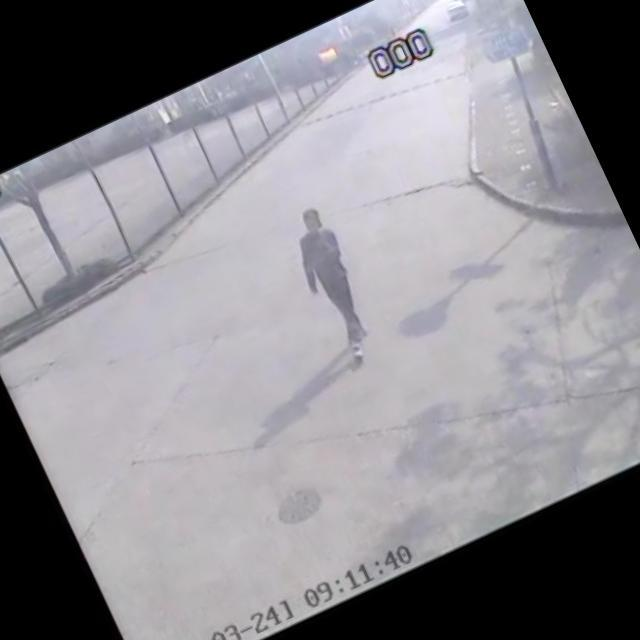person: (276, 200, 391, 371)
